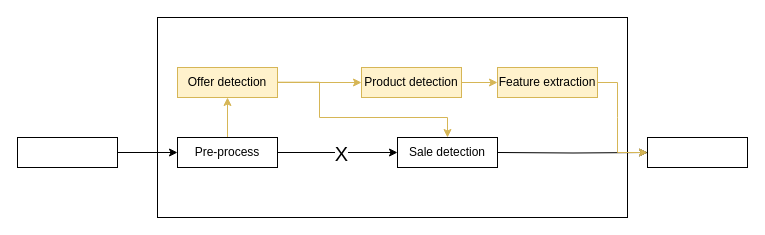
Some shapes in this 765 by 235 pixel diagram are drawn without their labels. Each missing label, with the box of its shape:
Flyer (.pdf ): (16, 136, 118, 168)
Offer(s): (646, 136, 748, 168)
